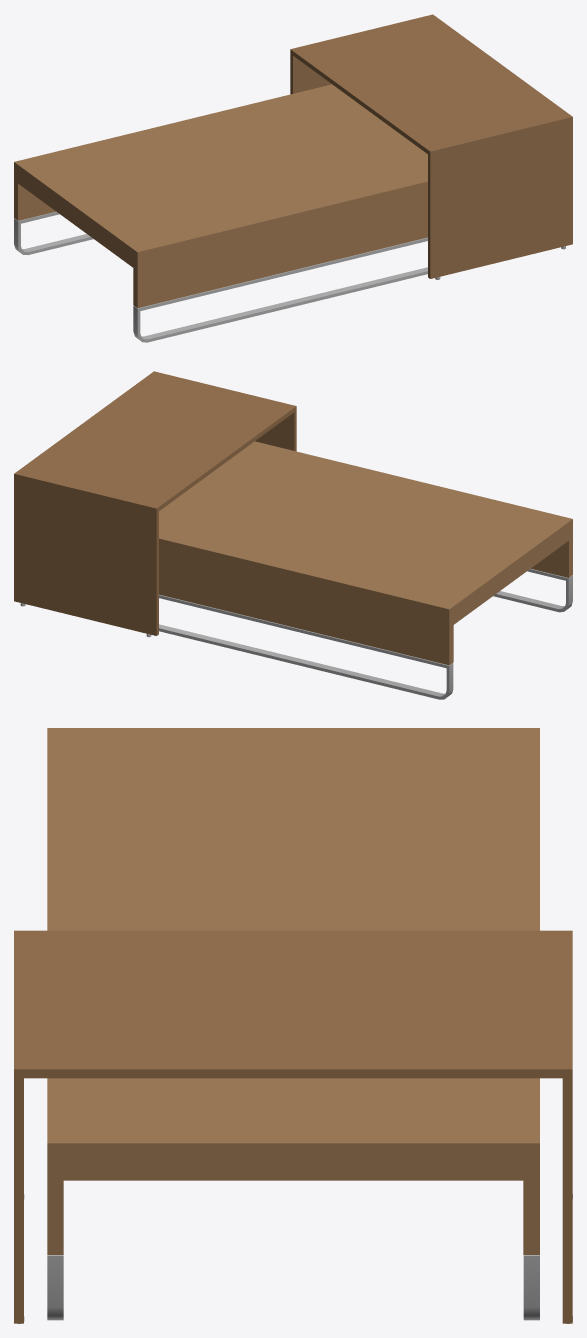
The model's file is coffee_table_3.FBX.
The picture shows the model from 3 angles, top to bottom: view 1: azimuth 30°, elevation 25°; view 2: azimuth 150°, elevation 25°; view 3: azimuth 270°, elevation 25°; orthographic projection. The views are drawn at different scales.
Visible parts, largest first — view 1: coffee_table_3; view 2: coffee_table_3; view 3: coffee_table_3.
Boxes of the visible parts, x1,y1,x2,y2 form: coffee_table_3: (14, 14, 572, 342); coffee_table_3: (14, 371, 572, 699); coffee_table_3: (14, 728, 572, 1323).
Bounding box in the file's own units: 1.2 × 0.3501 × 0.6807.
